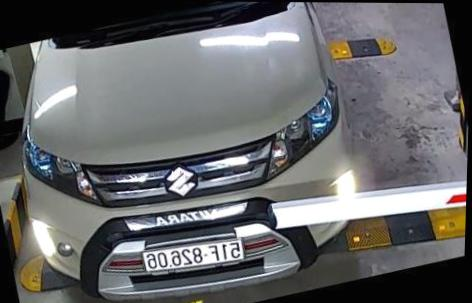License_Plate: (136, 233, 247, 281)
